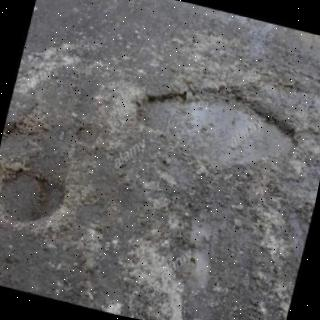pothole: (136, 86, 294, 166), (0, 170, 65, 223)
